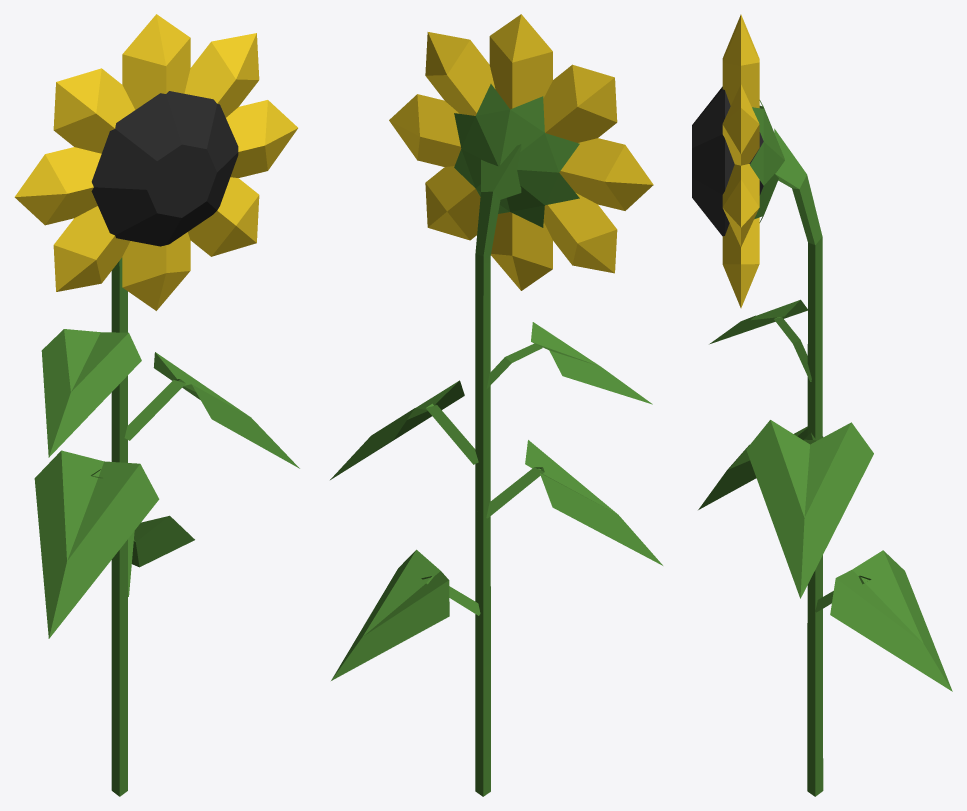
The model's file is nature_sunflower.fbx.
3 renders of one model, left to right at view 1: azimuth 30°, elevation 25°; view 2: azimuth 150°, elevation 25°; view 3: azimuth 270°, elevation 25°, orthographic. The views are drawn at different scales.
Parts seen in each view (by area): view 1: nature_sunflower; view 2: nature_sunflower; view 3: nature_sunflower.
Boxes of the visible parts, x1,y1,x2,y2 form: nature_sunflower: (14, 14, 299, 796); nature_sunflower: (330, 14, 662, 796); nature_sunflower: (692, 14, 952, 796).
Bounding box in the file's own units: 82.15 × 200 × 61.12.
